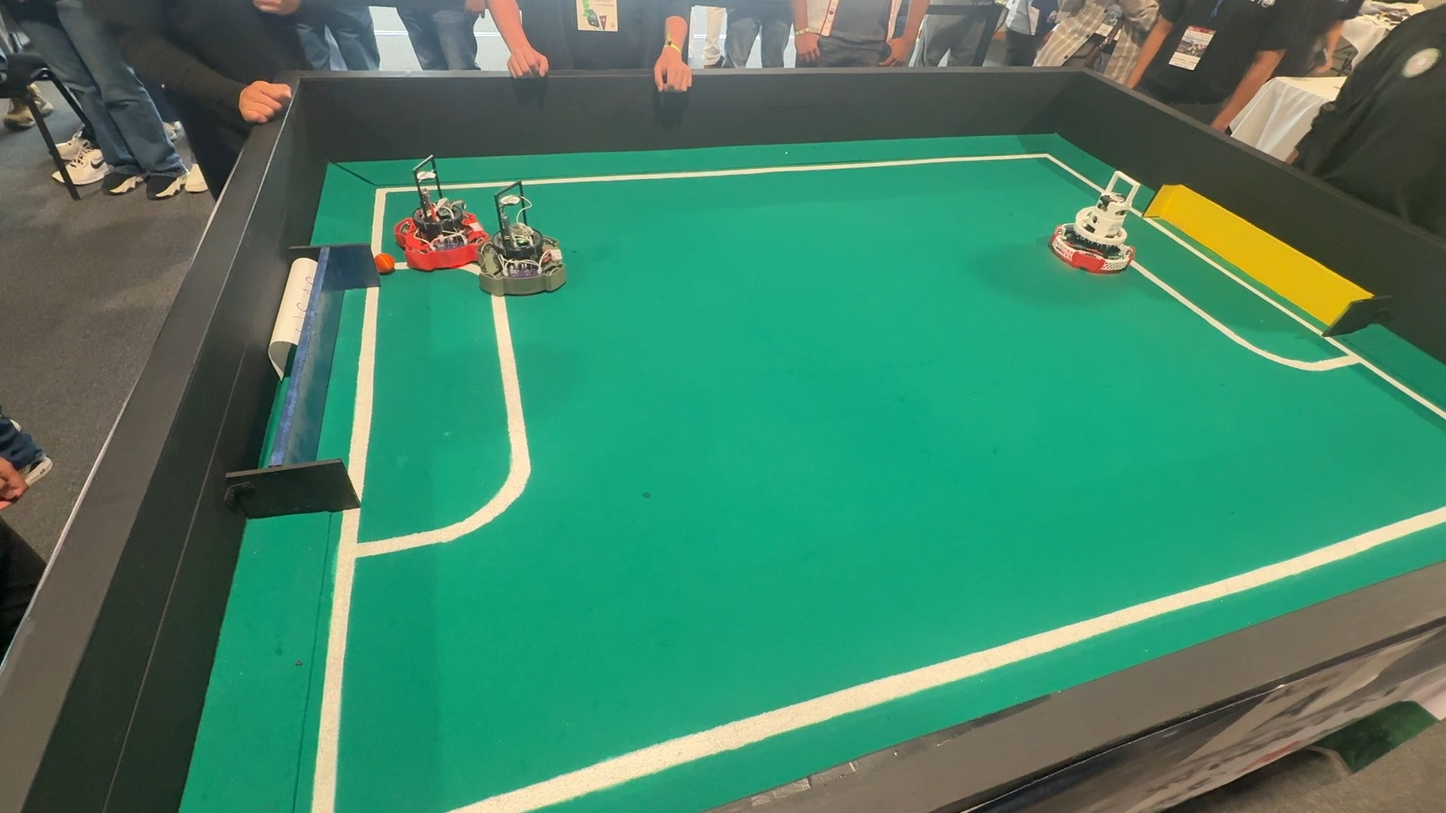Robot: (1039, 168, 1172, 289), (396, 159, 493, 273), (479, 193, 573, 302)
pelota: (377, 254, 408, 278)
